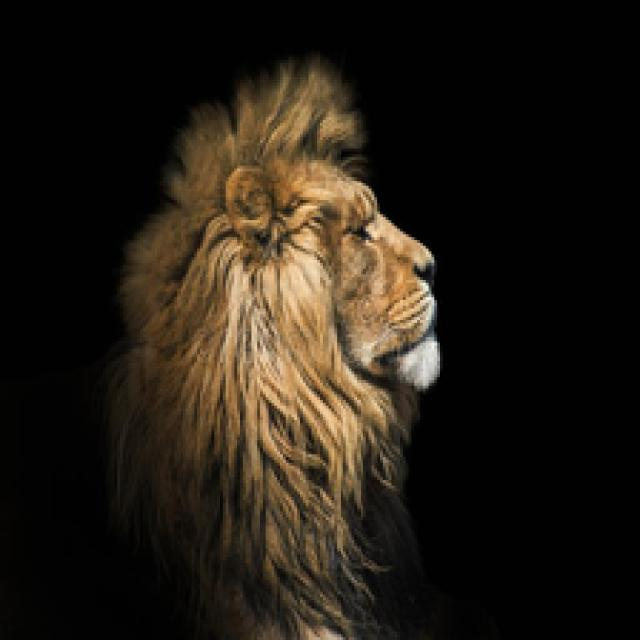lion: (84, 35, 576, 640)
